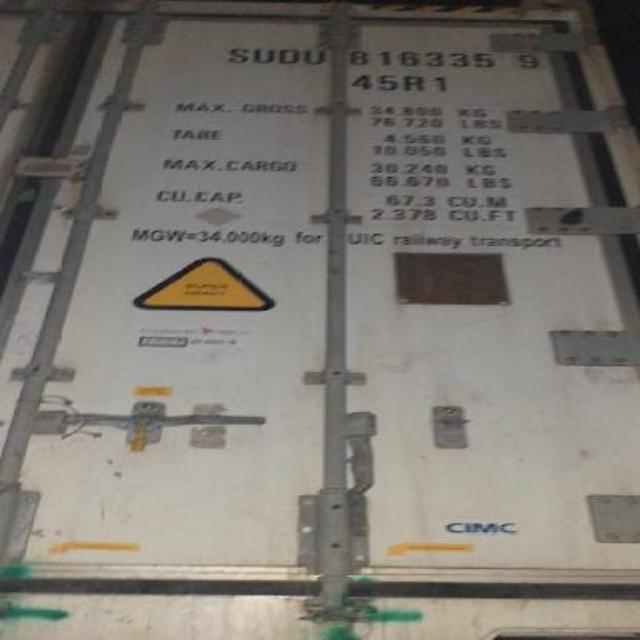1: (372, 41, 396, 70)
3: (444, 41, 470, 70), (422, 44, 448, 72)
5: (472, 43, 492, 73)
6: (394, 44, 420, 70)
8: (348, 45, 369, 69)
9: (514, 51, 546, 74)
D: (274, 40, 302, 72)
S: (220, 37, 248, 67)
U: (302, 44, 334, 72), (250, 42, 276, 68)
